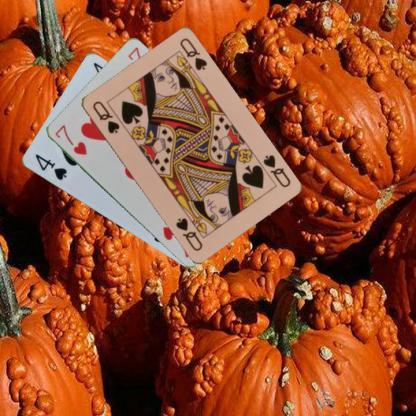4s: (32, 152, 68, 182)
7h: (51, 122, 88, 156)
Qs: (260, 151, 292, 189), (90, 98, 120, 135)
